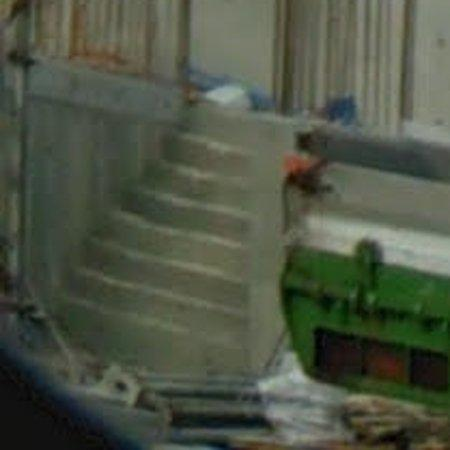stairs: (55, 132, 255, 375)
